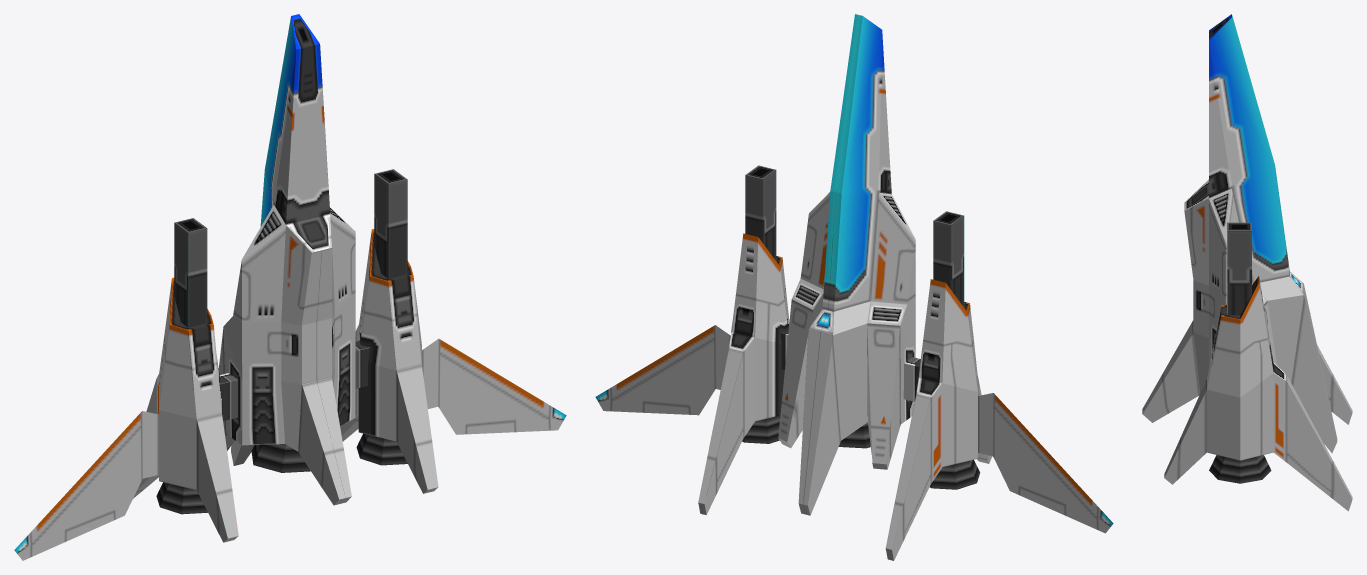
Rendered from Ship.fbx.
3 views of the same model, side by side, from view 1: azimuth 30°, elevation 25°; view 2: azimuth 150°, elevation 25°; view 3: azimuth 270°, elevation 25° (orthographic). The views are drawn at different scales.
Parts seen in each view (by area): view 1: Cube; view 2: Cube; view 3: Cube.
Boxes of the visible parts, <box> form: Cube: <box>14,14,566,560</box>; Cube: <box>595,14,1113,560</box>; Cube: <box>1142,14,1352,511</box>.
Bounding box in the file's own units: 591 × 520 × 219.
